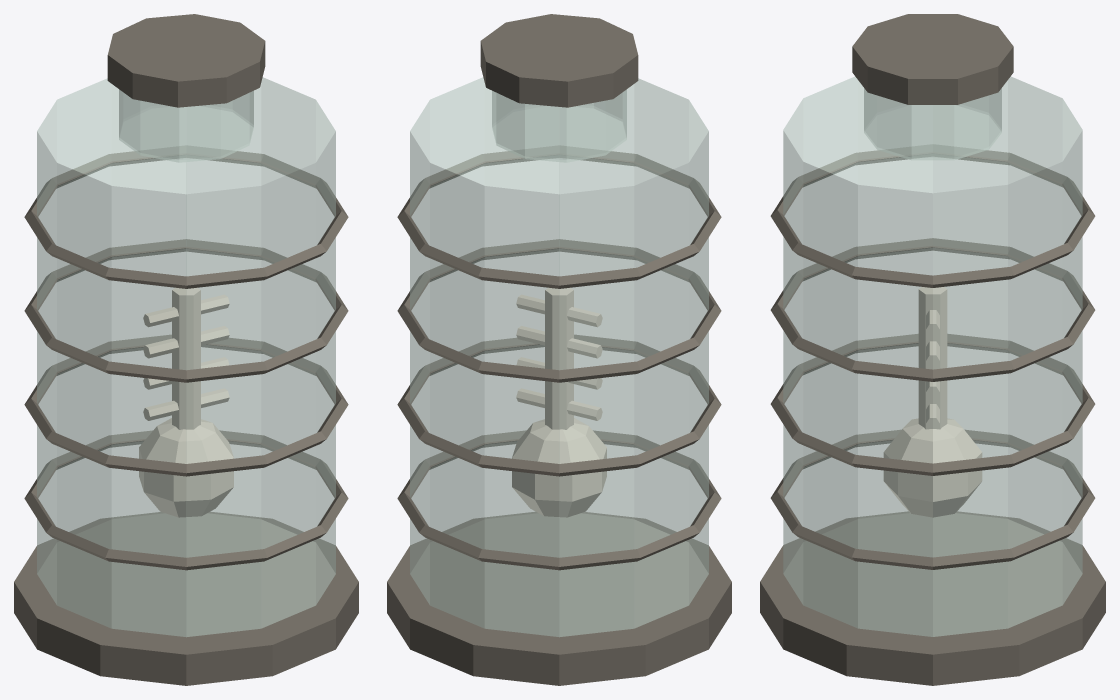
Rendered from specimen_jar_bones.glb.
The picture shows the model from 3 angles, left to right: view 1: azimuth 30°, elevation 25°; view 2: azimuth 150°, elevation 25°; view 3: azimuth 270°, elevation 25°; orthographic projection.
Visible parts, largest first — view 1: specimen_jar_bones; view 2: specimen_jar_bones; view 3: specimen_jar_bones.
Part boxes in pixels (box(x1,y1,x2,y2)): specimen_jar_bones: box(14, 14, 358, 685); specimen_jar_bones: box(387, 14, 731, 685); specimen_jar_bones: box(760, 14, 1105, 685).
Bounding box in the file's own units: 0.6 × 1.08 × 0.6.
